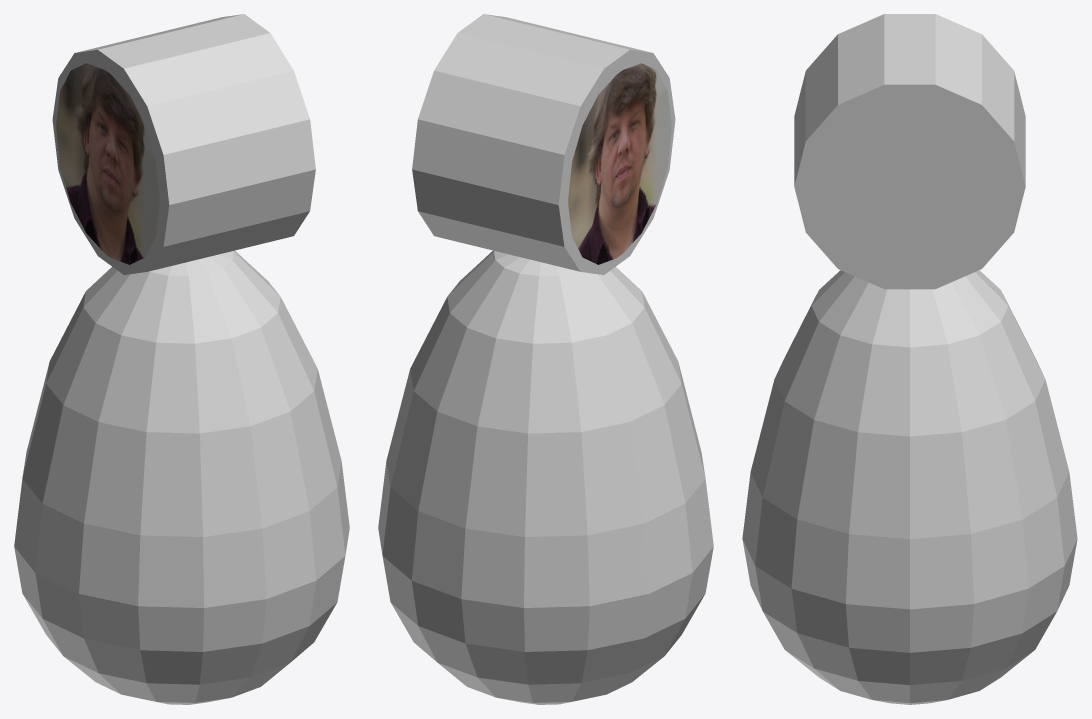
Rendered from TeachersModels-NepMitch.fbx.
The picture shows the model from 3 angles, left to right: view 1: azimuth 30°, elevation 25°; view 2: azimuth 150°, elevation 25°; view 3: azimuth 270°, elevation 25°; orthographic projection.
Visible parts, largest first — view 1: Sphere.001, Cylinder.001, Mitch; view 2: Sphere.001, Cylinder.001, Mitch; view 3: Sphere.001, Cylinder.001.
Boxes of the visible parts, <box> form: Sphere.001: <box>14,250,349,704</box>; Cylinder.001: <box>52,14,315,274</box>; Mitch: <box>56,63,159,264</box>; Sphere.001: <box>378,250,713,704</box>; Cylinder.001: <box>412,14,675,274</box>; Mitch: <box>568,63,671,264</box>; Sphere.001: <box>742,270,1077,704</box>; Cylinder.001: <box>794,14,1025,289</box>.
Size of the model in its own units: 200 by 423 by 200.
1 material, 1 textured.
